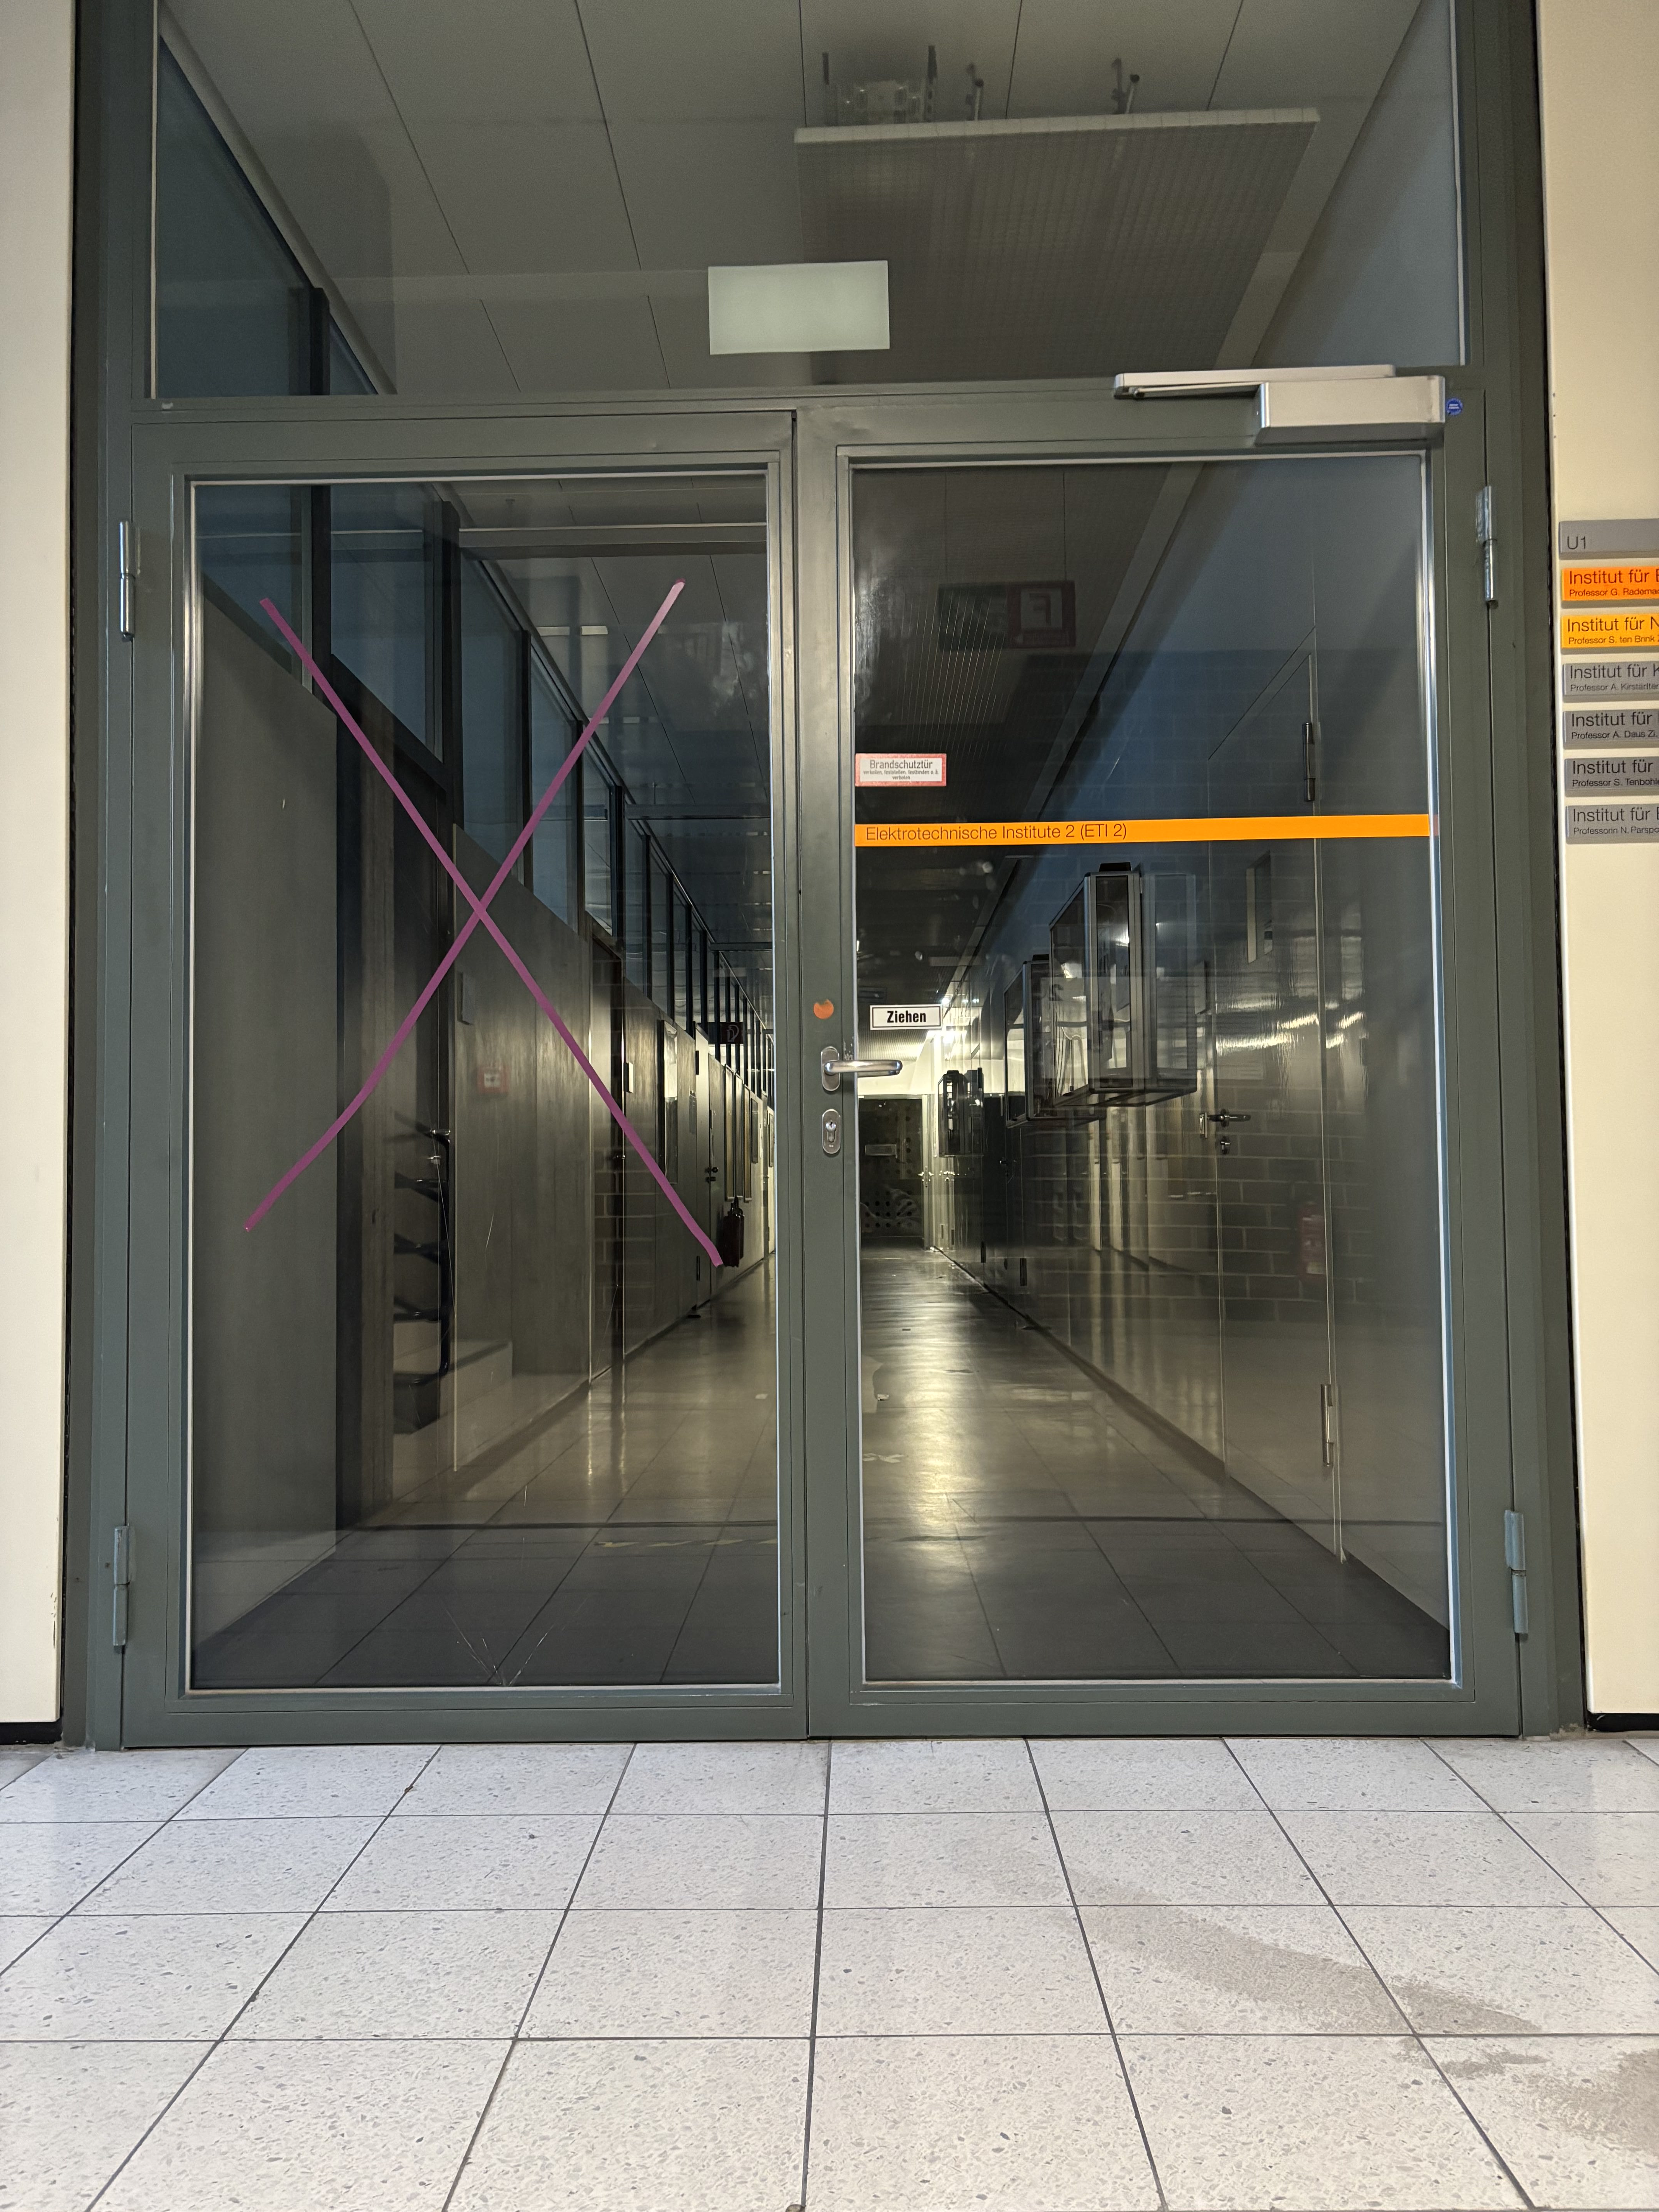door: (96, 417, 1539, 1726)
handle: (814, 1044, 906, 1092)
